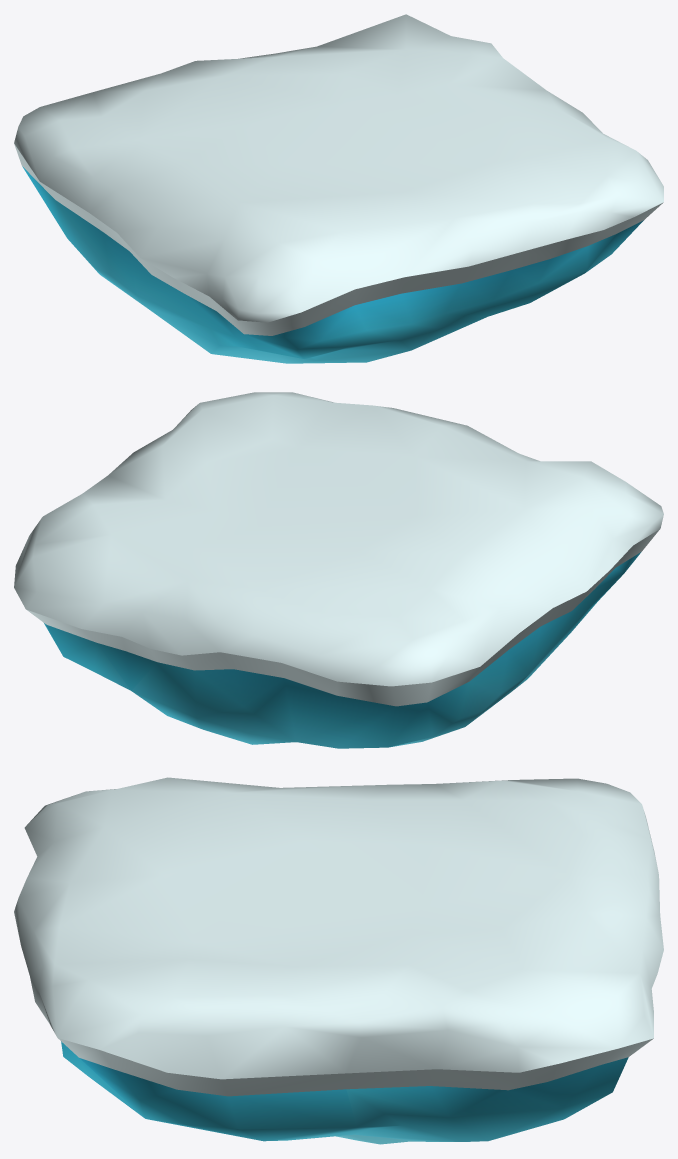
File: iceberg_004.fbx
The picture shows the model from 3 angles, top to bottom: view 1: azimuth 30°, elevation 25°; view 2: azimuth 150°, elevation 25°; view 3: azimuth 270°, elevation 25°; orthographic projection. The views are drawn at different scales.
Parts seen in each view (by area): view 1: iceberg_004; view 2: iceberg_004; view 3: iceberg_004.
Part boxes in pixels (left/top/right/bottom): iceberg_004: left=14, top=14, right=663, bottom=363; iceberg_004: left=14, top=392, right=663, bottom=748; iceberg_004: left=14, top=777, right=663, bottom=1144.
Bounding box in the file's own units: 1152 × 1190 × 533.
